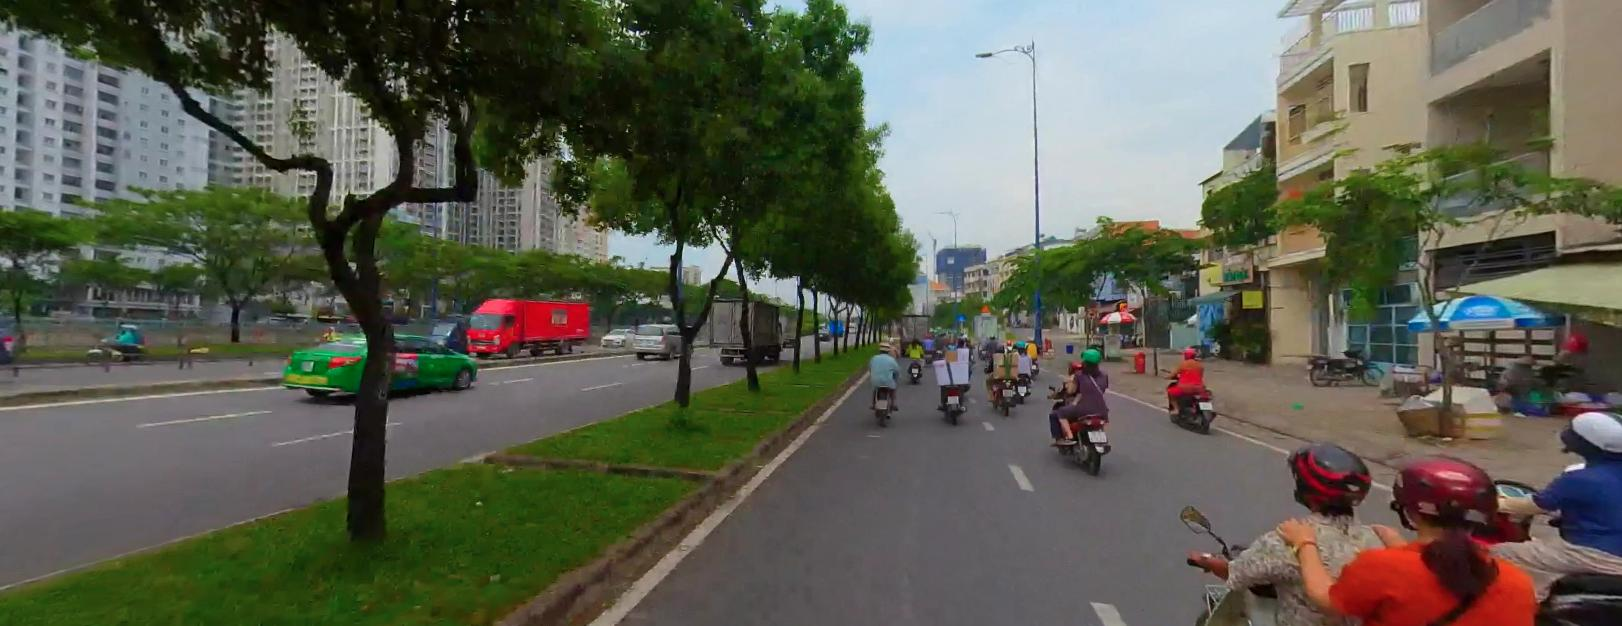Nguy hiem: (980, 303, 990, 310)
